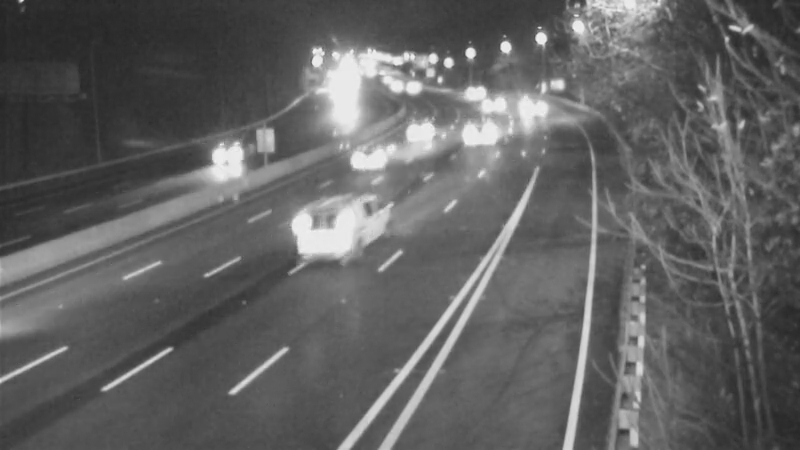vehicle: (328, 115, 408, 195), (277, 190, 357, 270), (190, 113, 270, 193), (387, 60, 437, 110), (444, 69, 494, 119), (506, 82, 556, 132), (467, 79, 517, 129), (399, 105, 449, 155), (456, 109, 506, 159)
